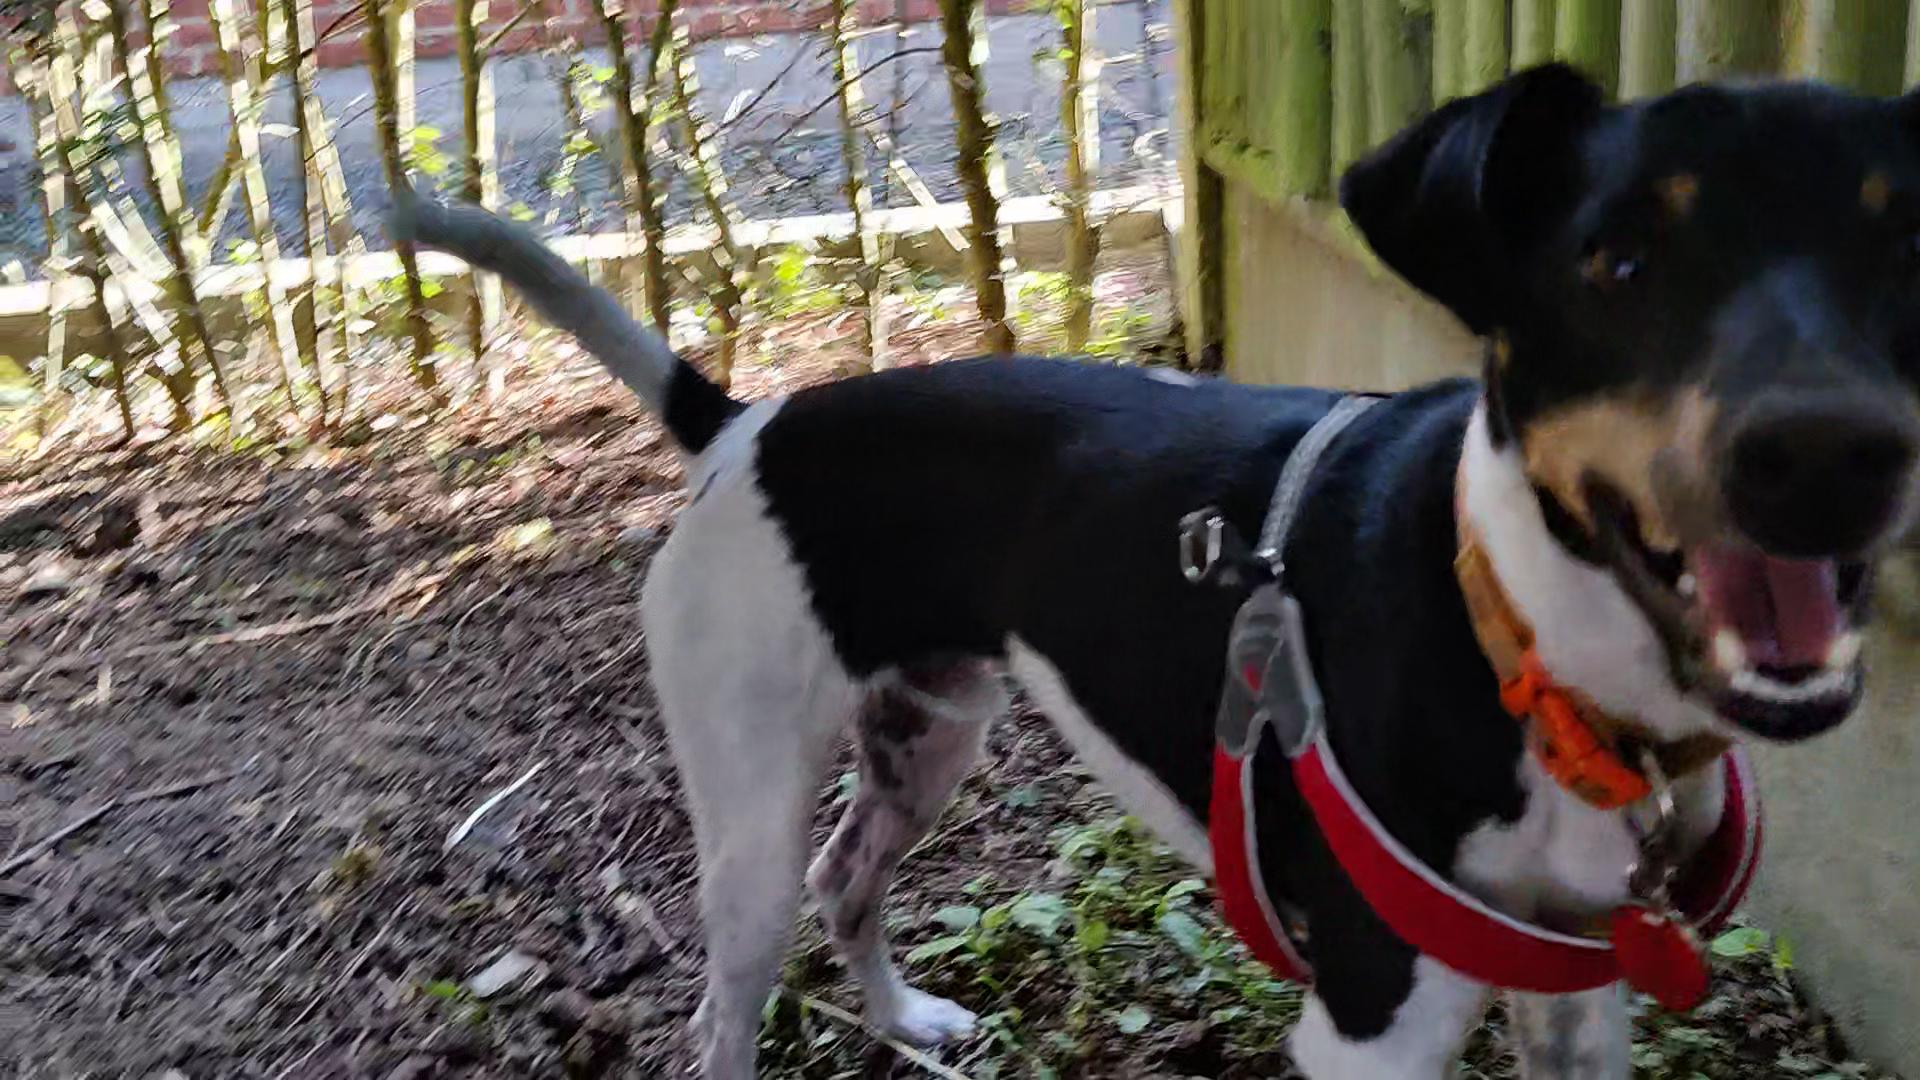Dog: (386, 41, 1919, 1079)
